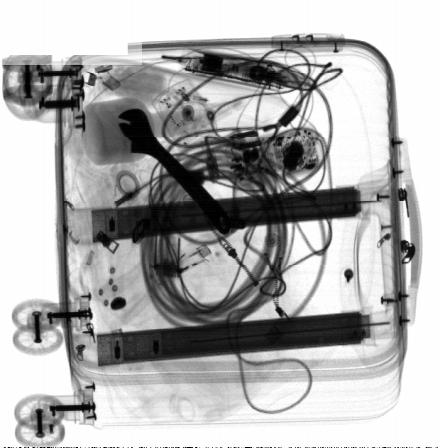Wrench: (117, 107, 232, 235)
